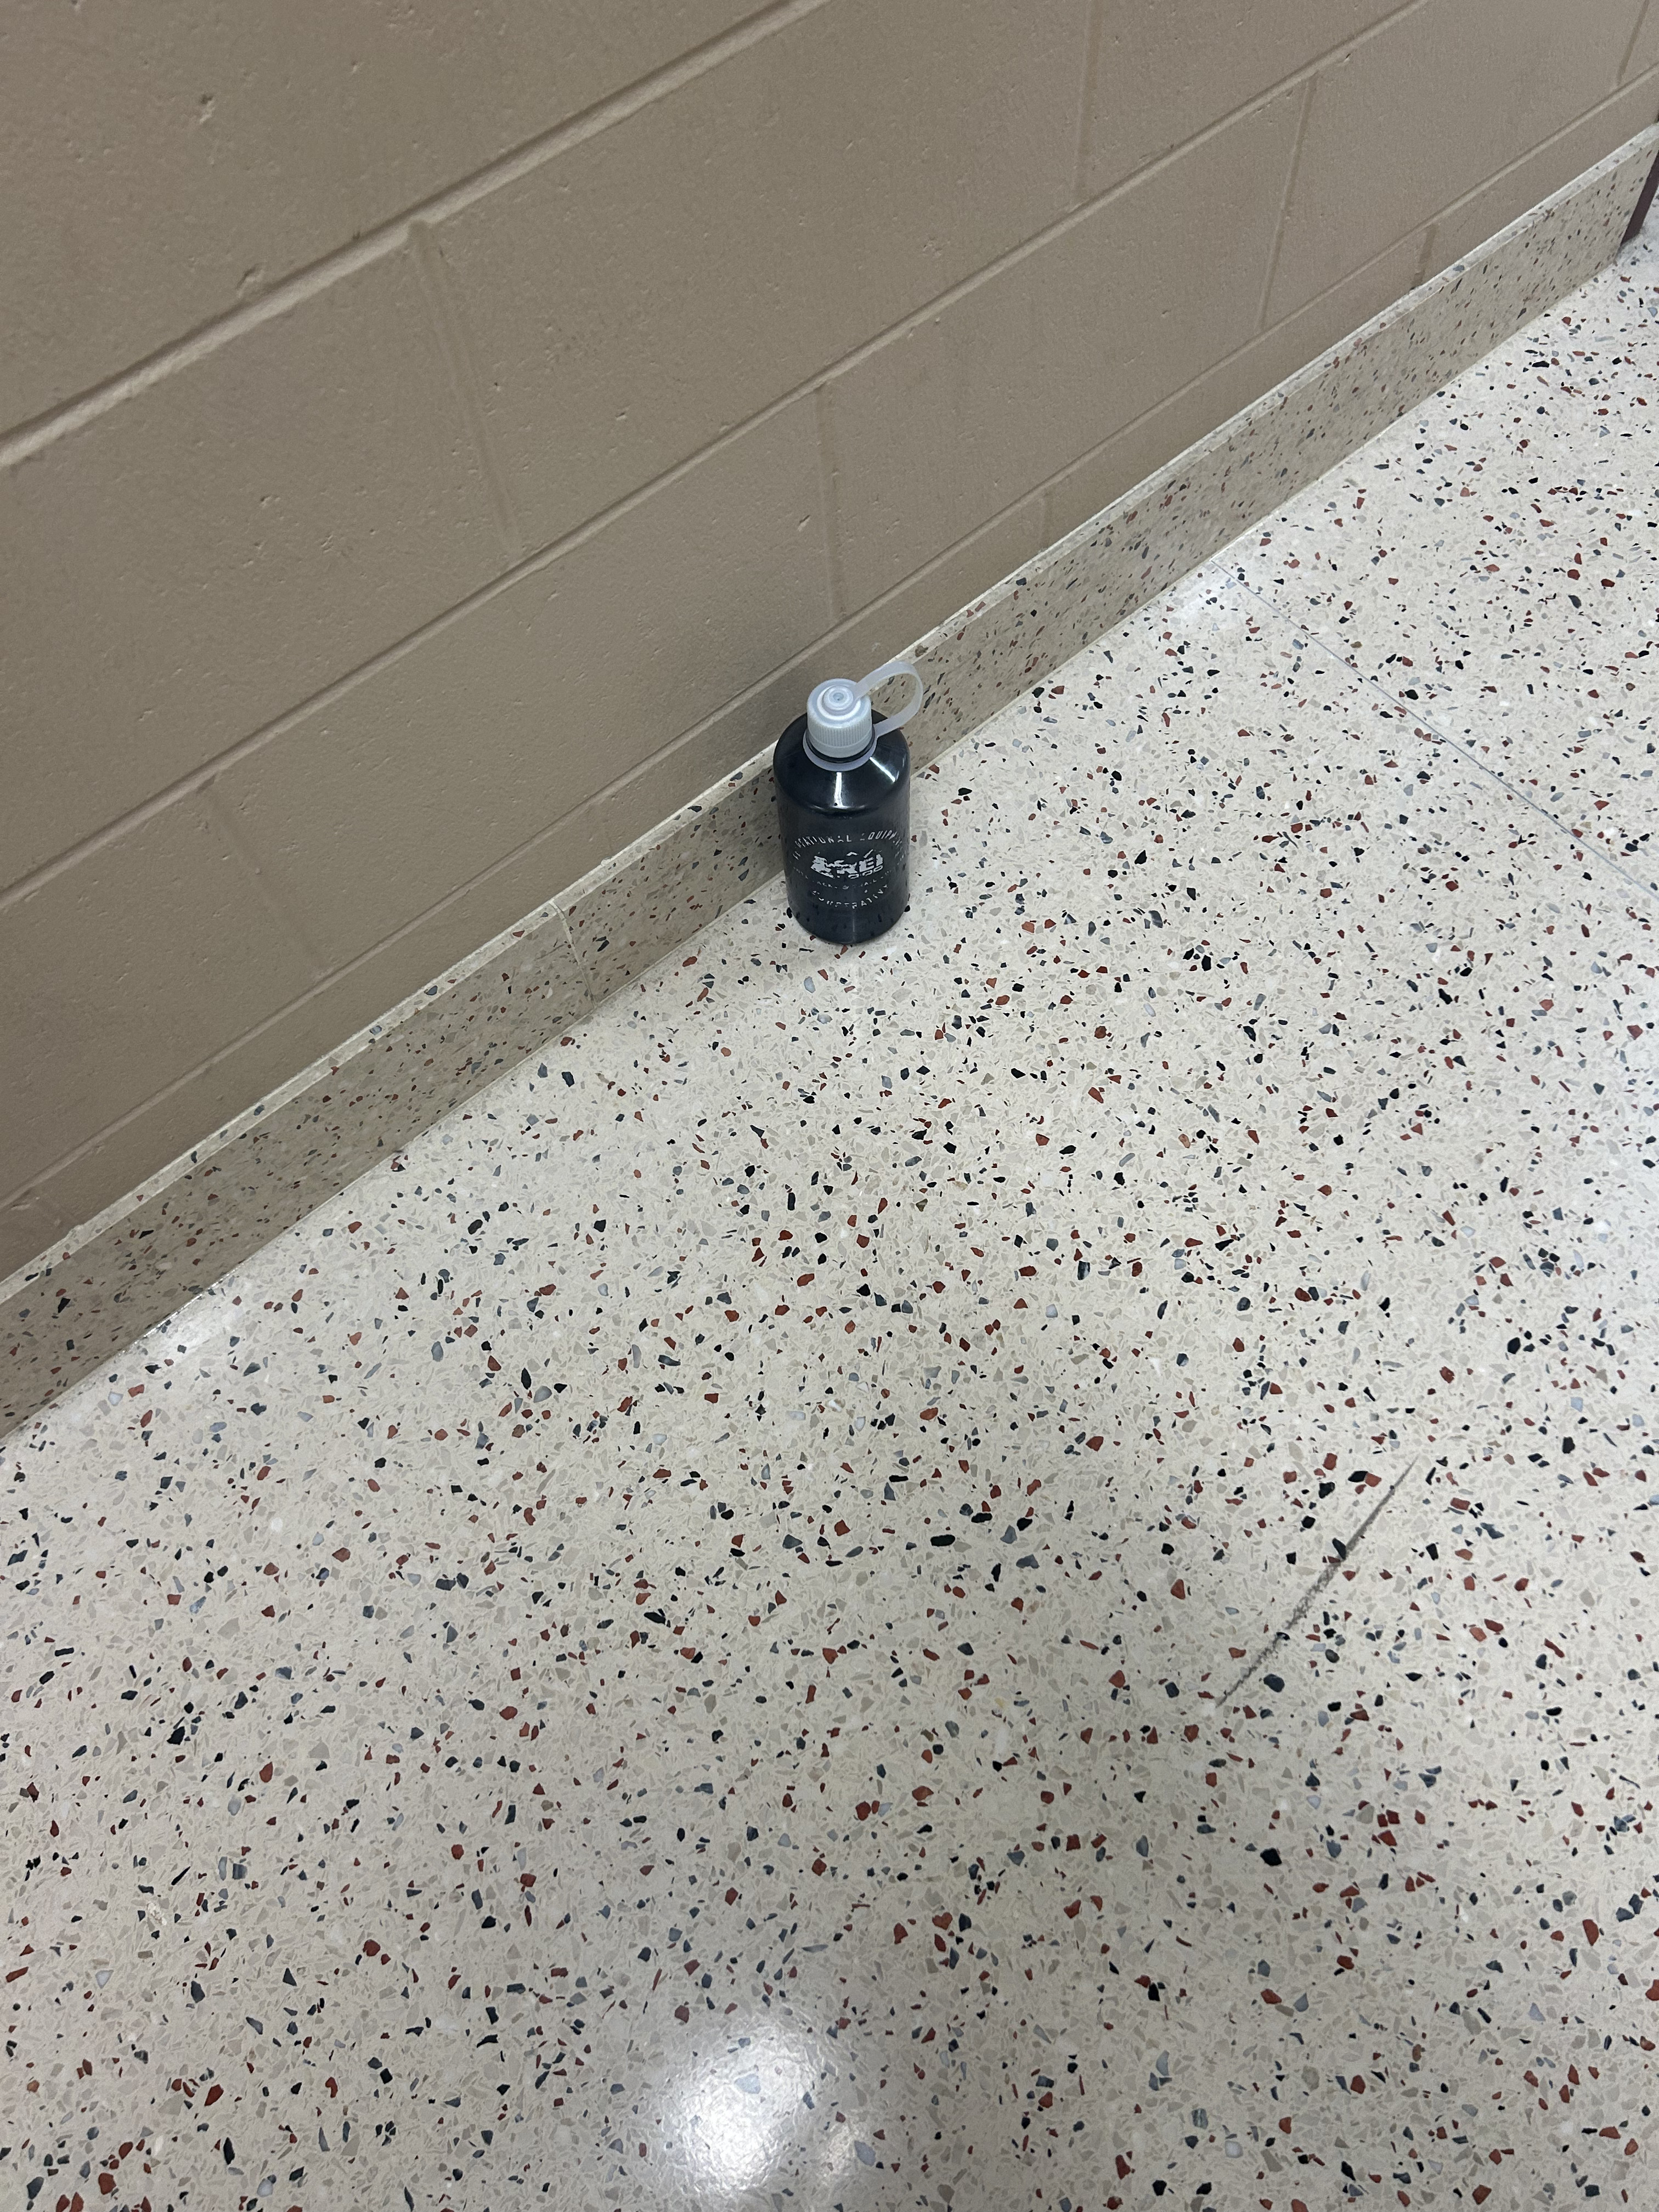bottle: (770, 650, 925, 951)
